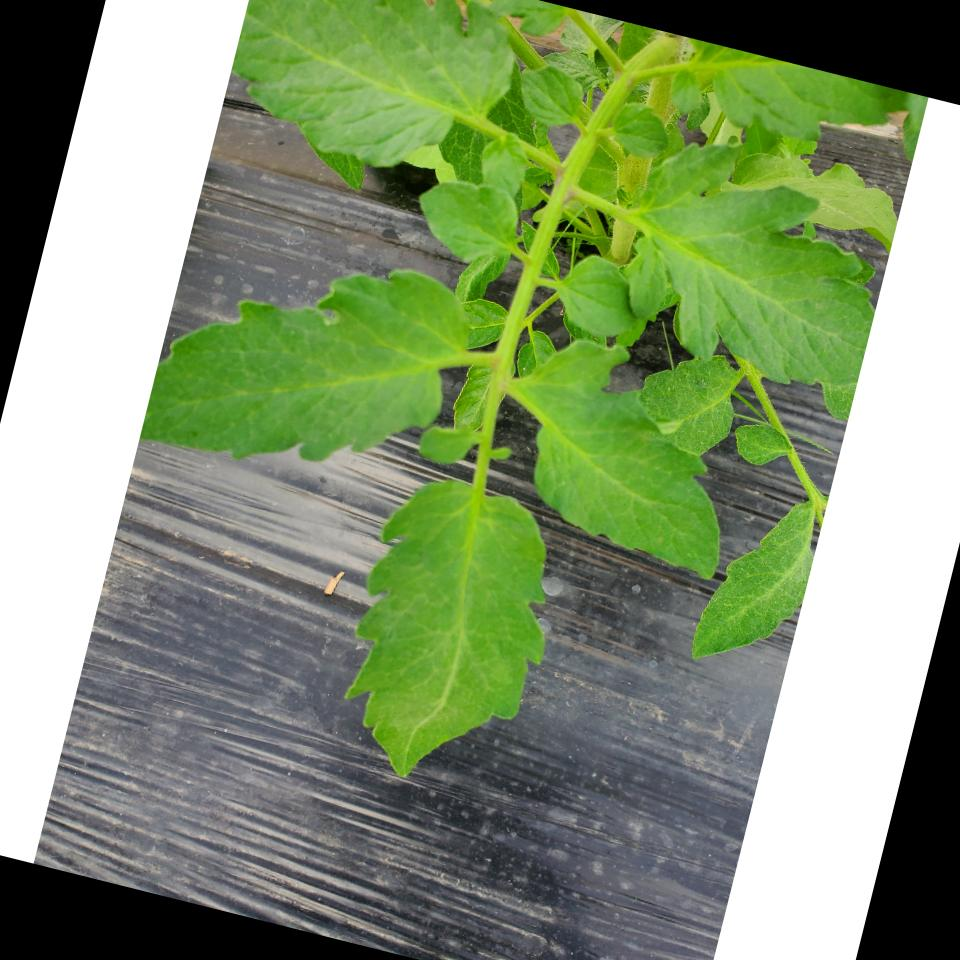tomato_leaves: (139, 214, 477, 506), (329, 470, 574, 801), (467, 315, 764, 585), (612, 130, 905, 399), (215, 0, 538, 197), (689, 466, 830, 691)
